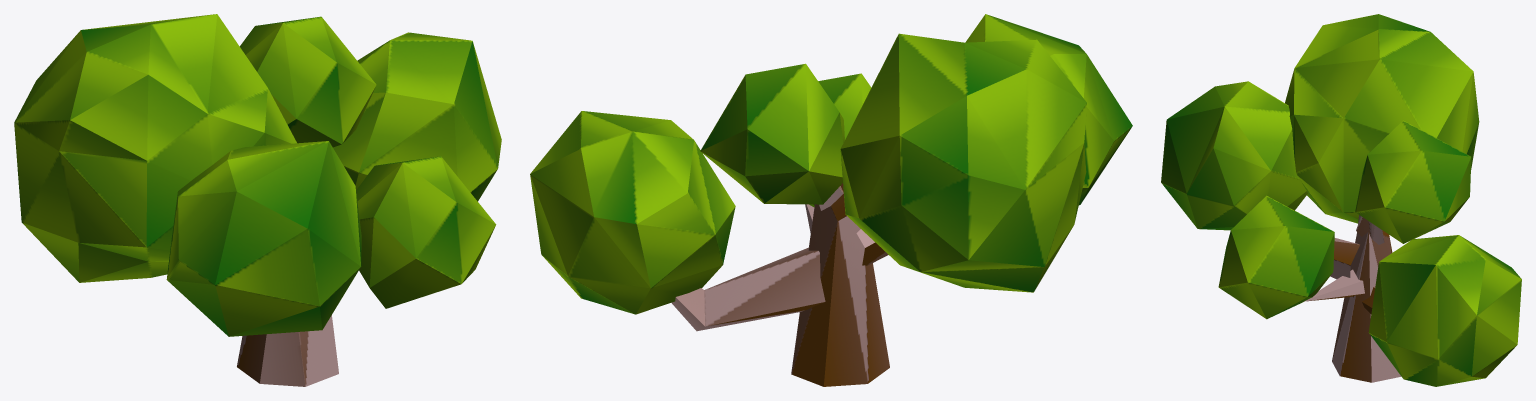
Rendered from Laubbaum1.fbx.
3 views of the same model, side by side, from view 1: azimuth 30°, elevation 25°; view 2: azimuth 150°, elevation 25°; view 3: azimuth 270°, elevation 25° (orthographic). The views are drawn at different scales.
Parts seen in each view (by area): view 1: Kugel_5, Sweep; view 2: Kugel_5, Sweep; view 3: Kugel_5, Sweep.
Part boxes in pixels (box(x1,y1,x2,y2)): Kugel_5: box(14, 14, 501, 336); Sweep: box(237, 315, 338, 386); Kugel_5: box(530, 14, 1132, 314); Sweep: box(671, 183, 889, 386); Kugel_5: box(1161, 14, 1521, 386); Sweep: box(1304, 215, 1401, 382).
Size of the model in its own units: 1024 by 730 by 835.
